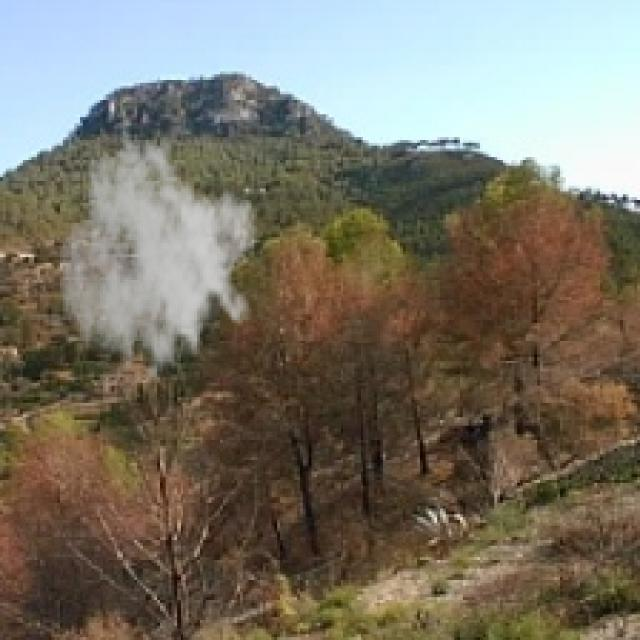smoke: (57, 129, 260, 400)
